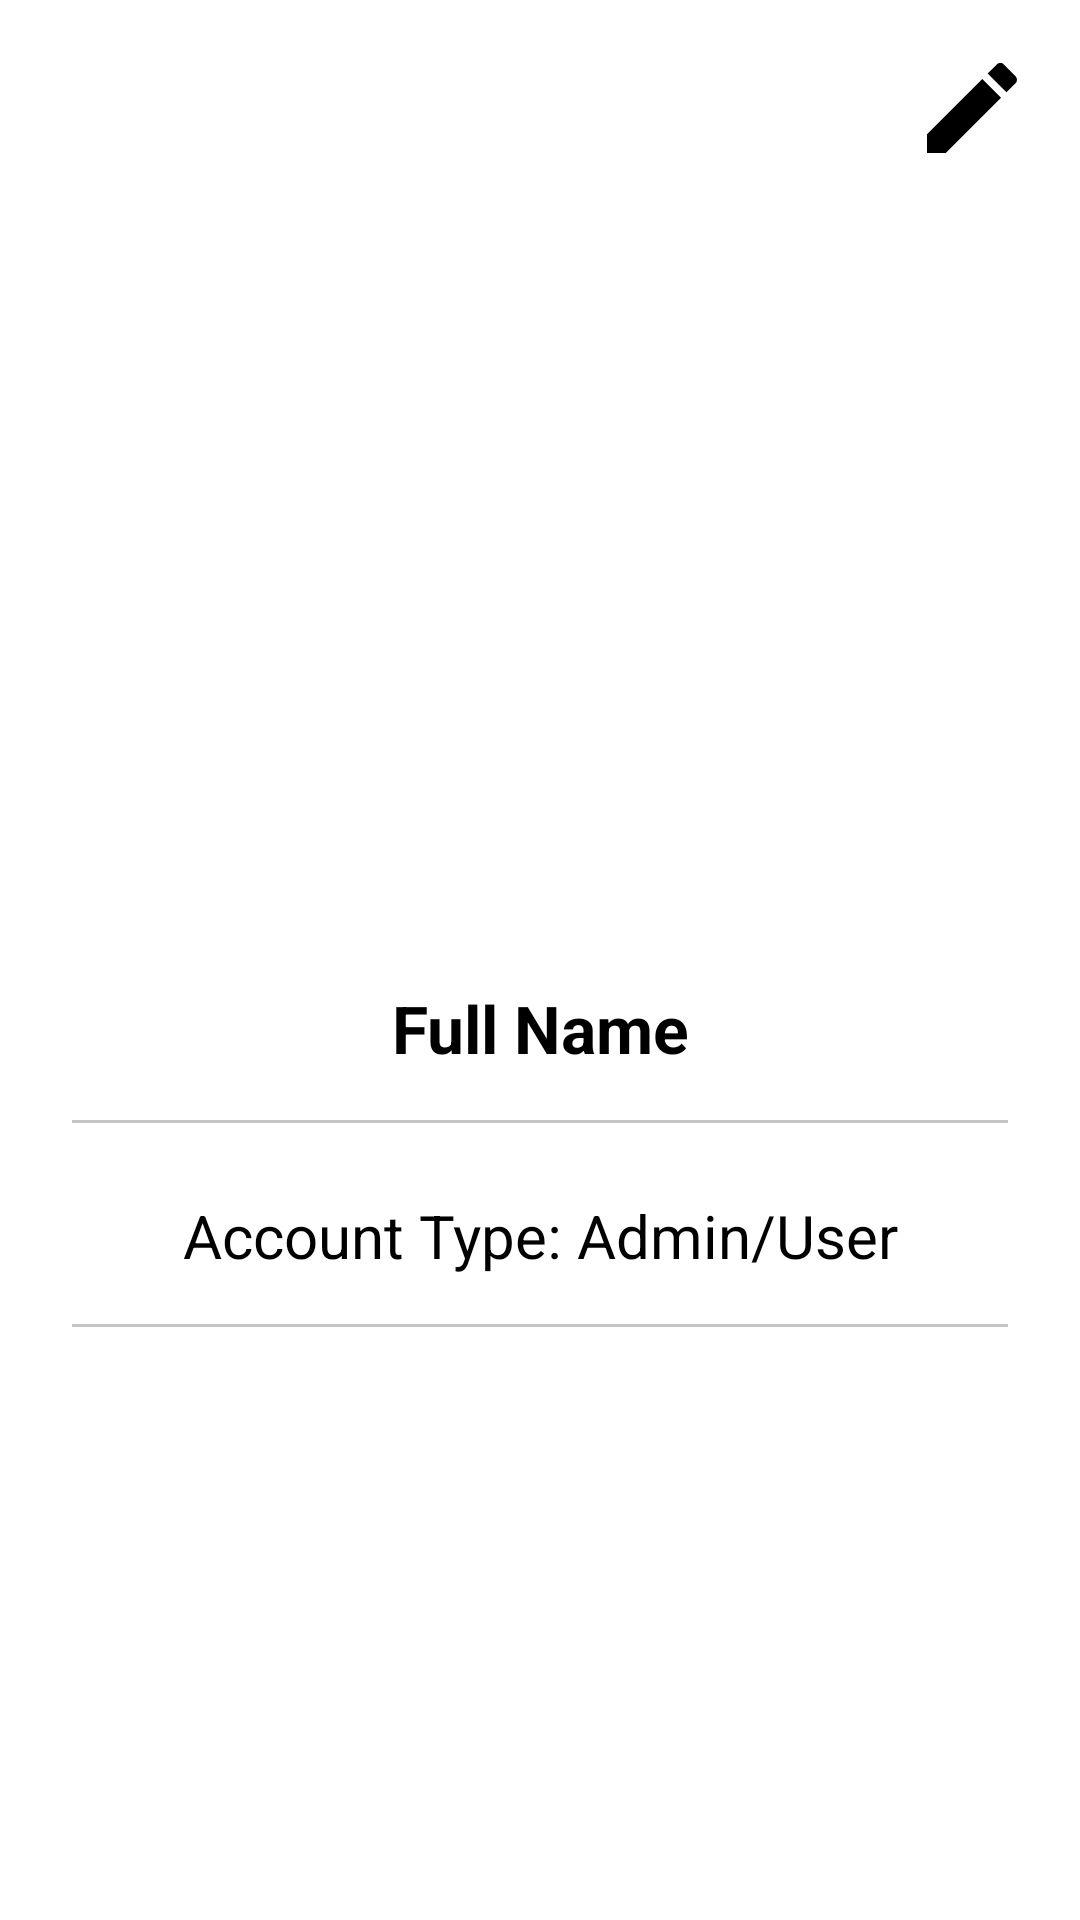

Screen size 1080px×1920px. Icon name, then its center in pixels as (x,y):
edit: (972,108)
